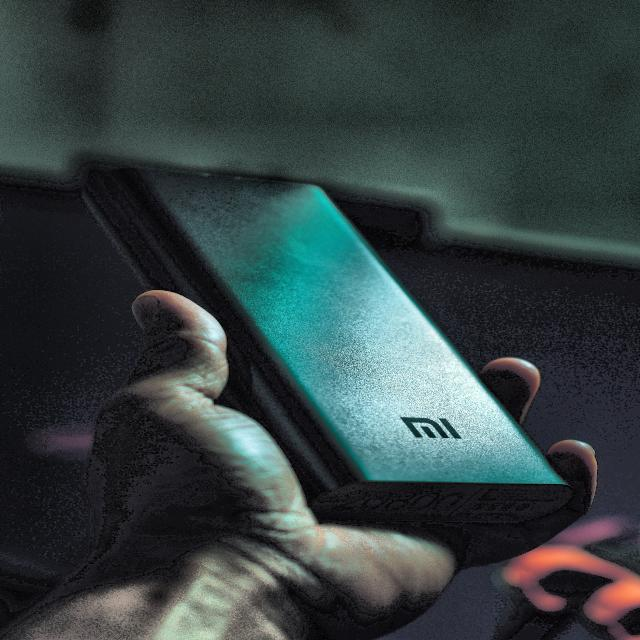Power bank: (85, 168, 572, 525)
